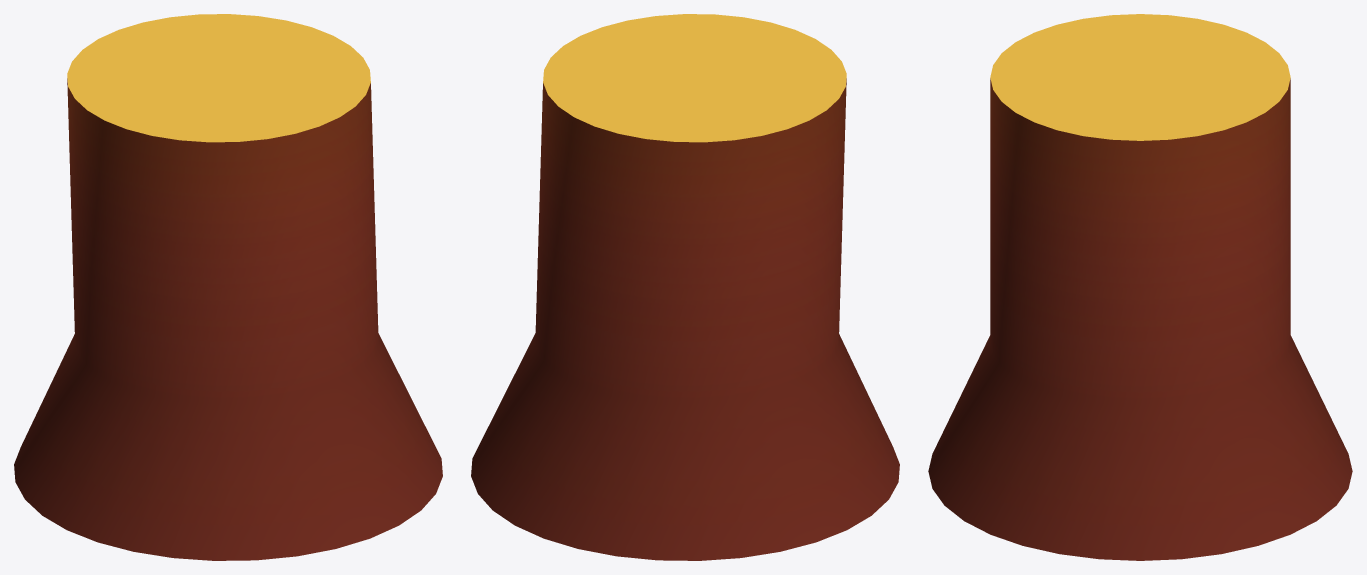
The model's file is TreeTrunk.fbx.
3 renders of one model, left to right at view 1: azimuth 30°, elevation 25°; view 2: azimuth 150°, elevation 25°; view 3: azimuth 270°, elevation 25°, orthographic.
Parts seen in each view (by area): view 1: Trunk; view 2: Trunk; view 3: Trunk.
Boxes of the visible parts, x1=… form: Trunk: x1=14, y1=14, x2=442, y2=560; Trunk: x1=471, y1=14, x2=899, y2=560; Trunk: x1=928, y1=14, x2=1352, y2=560.
Size of the model in its own units: 120 by 122 by 120.
